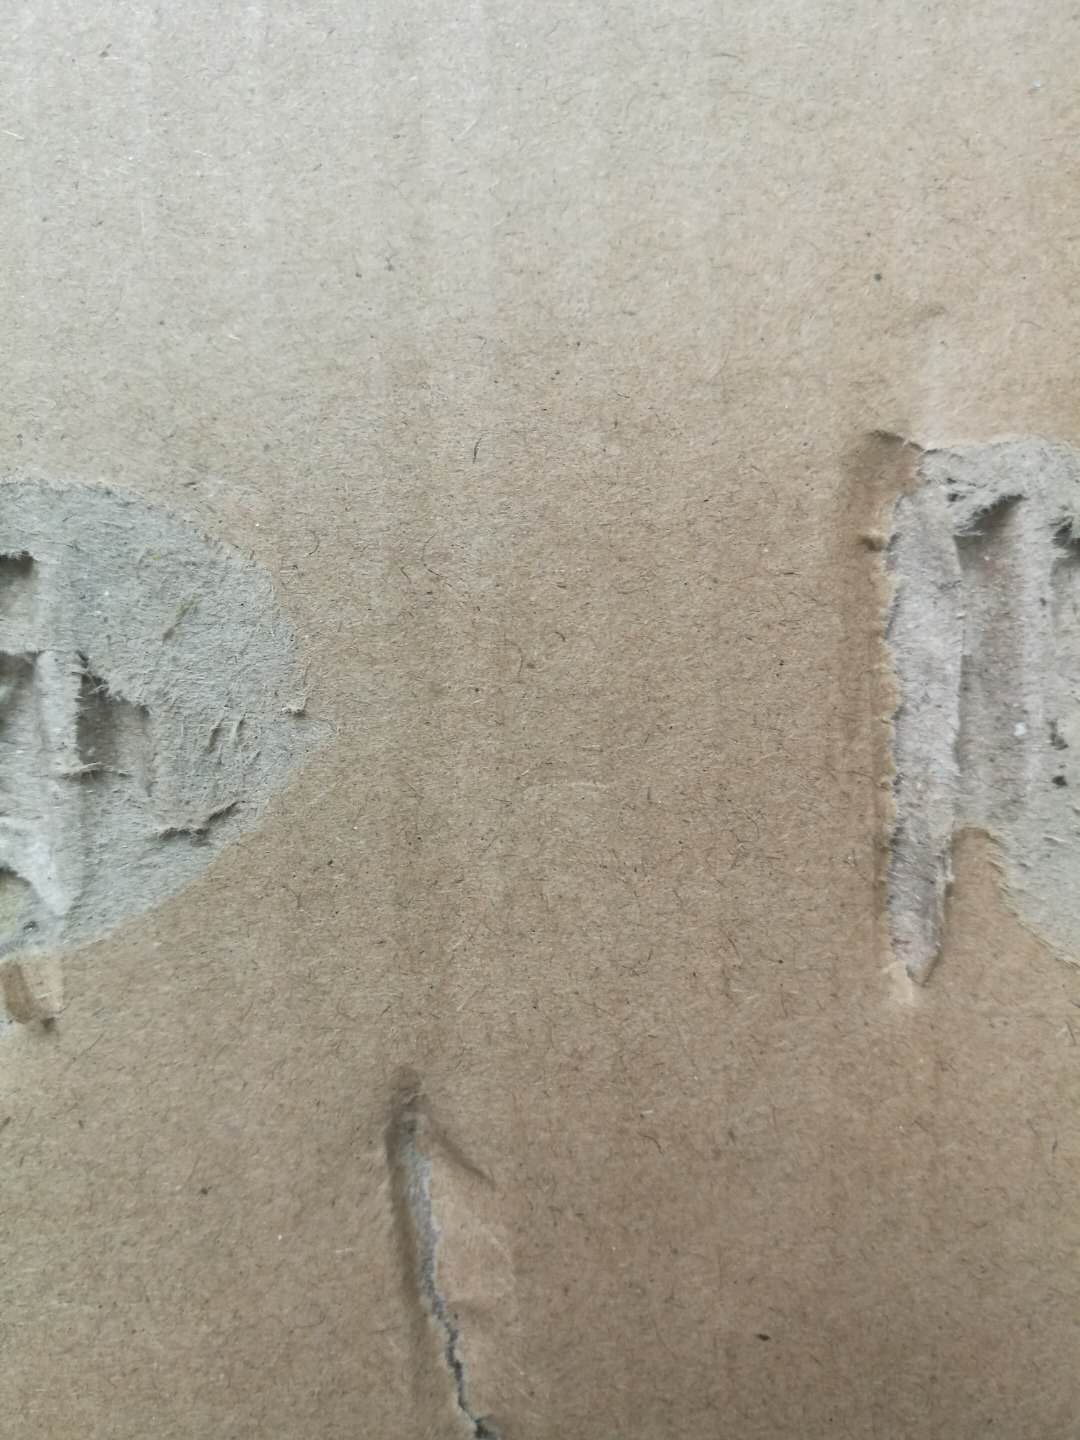defect: (2, 442, 368, 1065), (808, 379, 1080, 1011), (345, 1052, 559, 1440)
